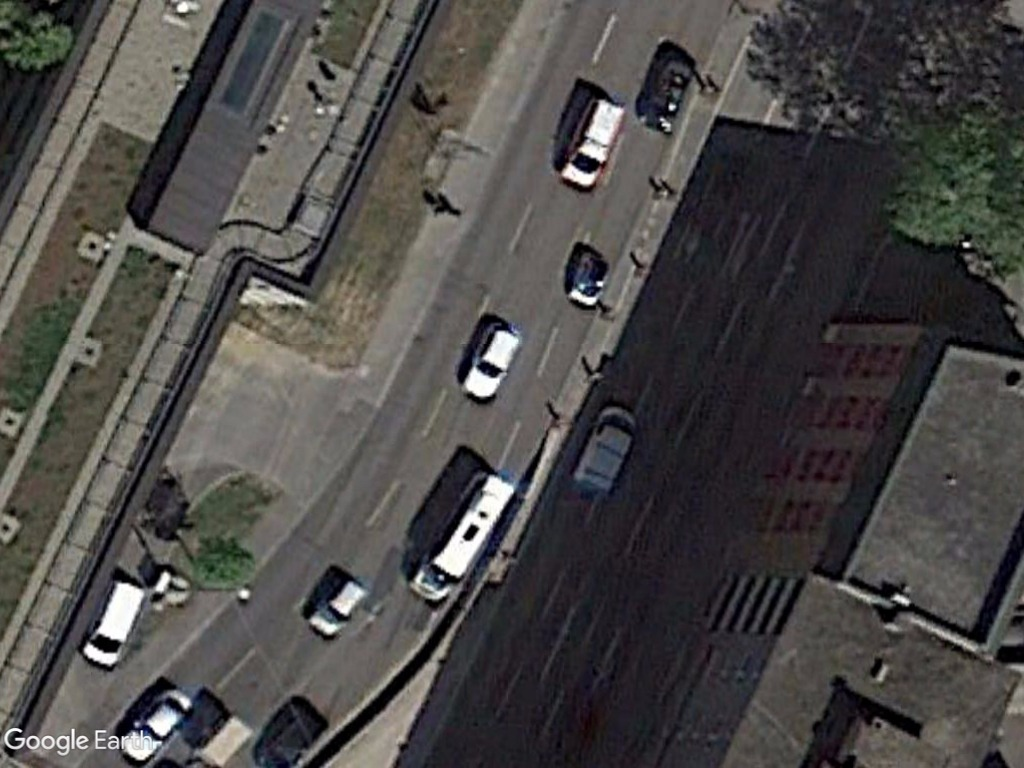car: (110, 689, 197, 765), (458, 318, 524, 408)
van: (404, 471, 519, 607), (77, 576, 153, 673), (556, 94, 628, 194), (571, 404, 638, 499), (302, 576, 370, 643)
